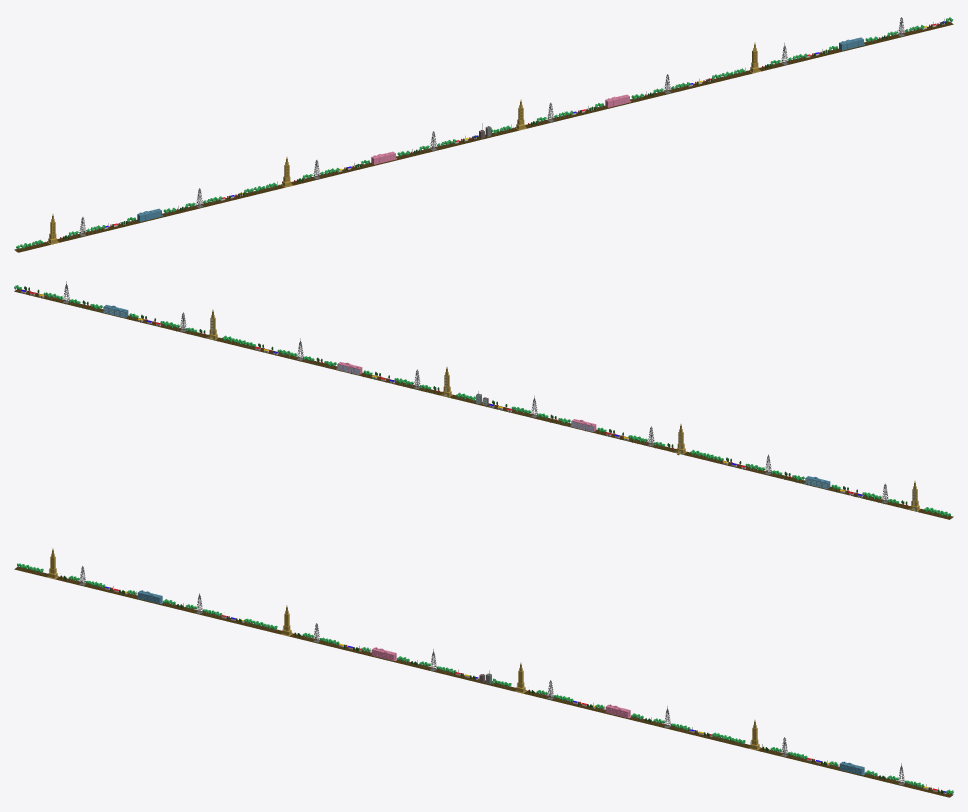
The model's file is city_map_02.fbx.
The picture shows the model from 3 angles, top to bottom: view 1: azimuth 30°, elevation 25°; view 2: azimuth 150°, elevation 25°; view 3: azimuth 330°, elevation 25°; orthographic projection.
Visible parts, largest first — view 1: lampione.002; view 2: lampione.002; view 3: lampione.002.
Boxes of the visible parts, bbox=[...] form: lampione.002: bbox=[14, 17, 953, 252]; lampione.002: bbox=[14, 281, 953, 519]; lampione.002: bbox=[14, 548, 953, 797].
Size of the model in its own units: 128046 by 3747 by 1359.
